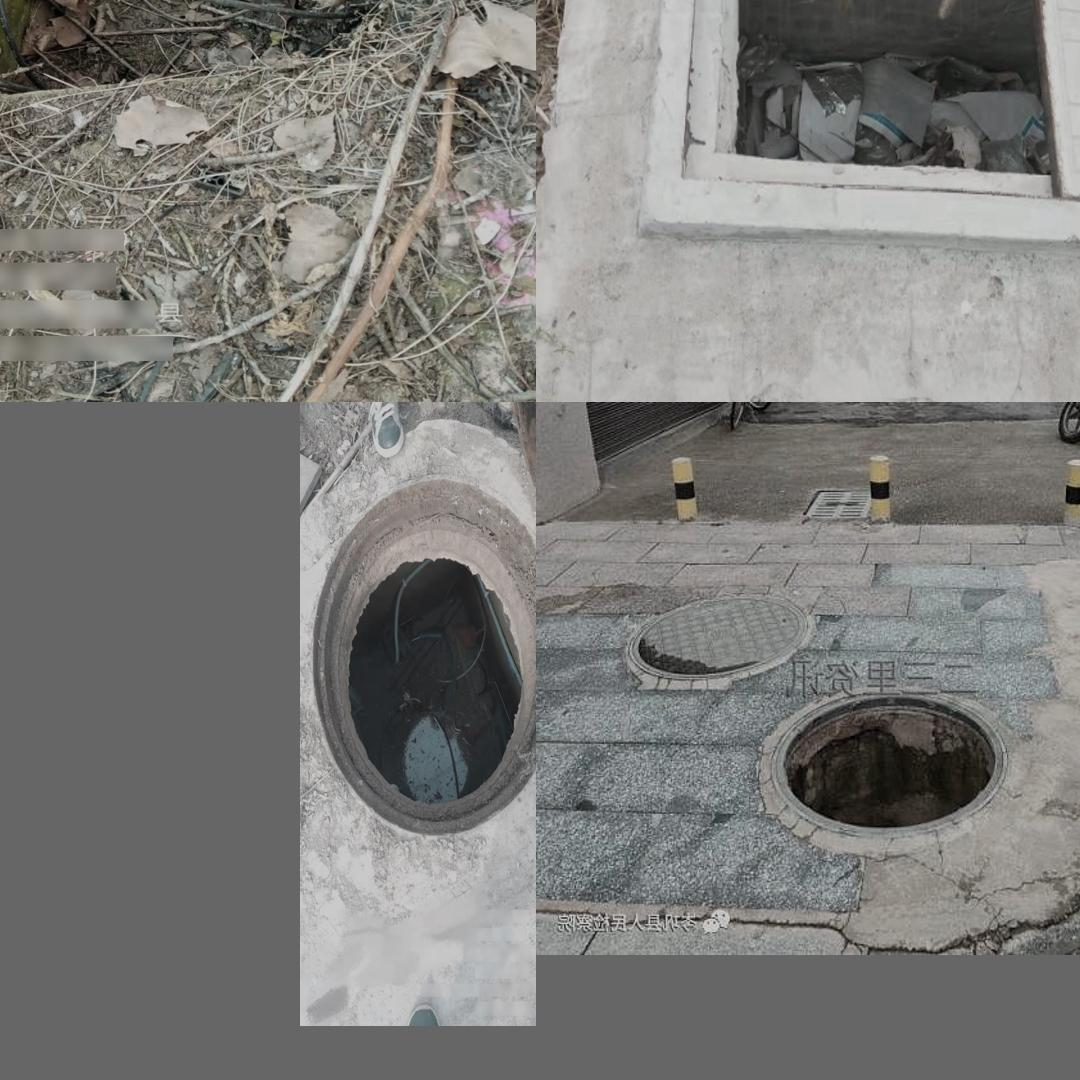lose: (636, 0, 1080, 242), (314, 441, 531, 887), (0, 0, 445, 104), (756, 679, 1015, 847)
